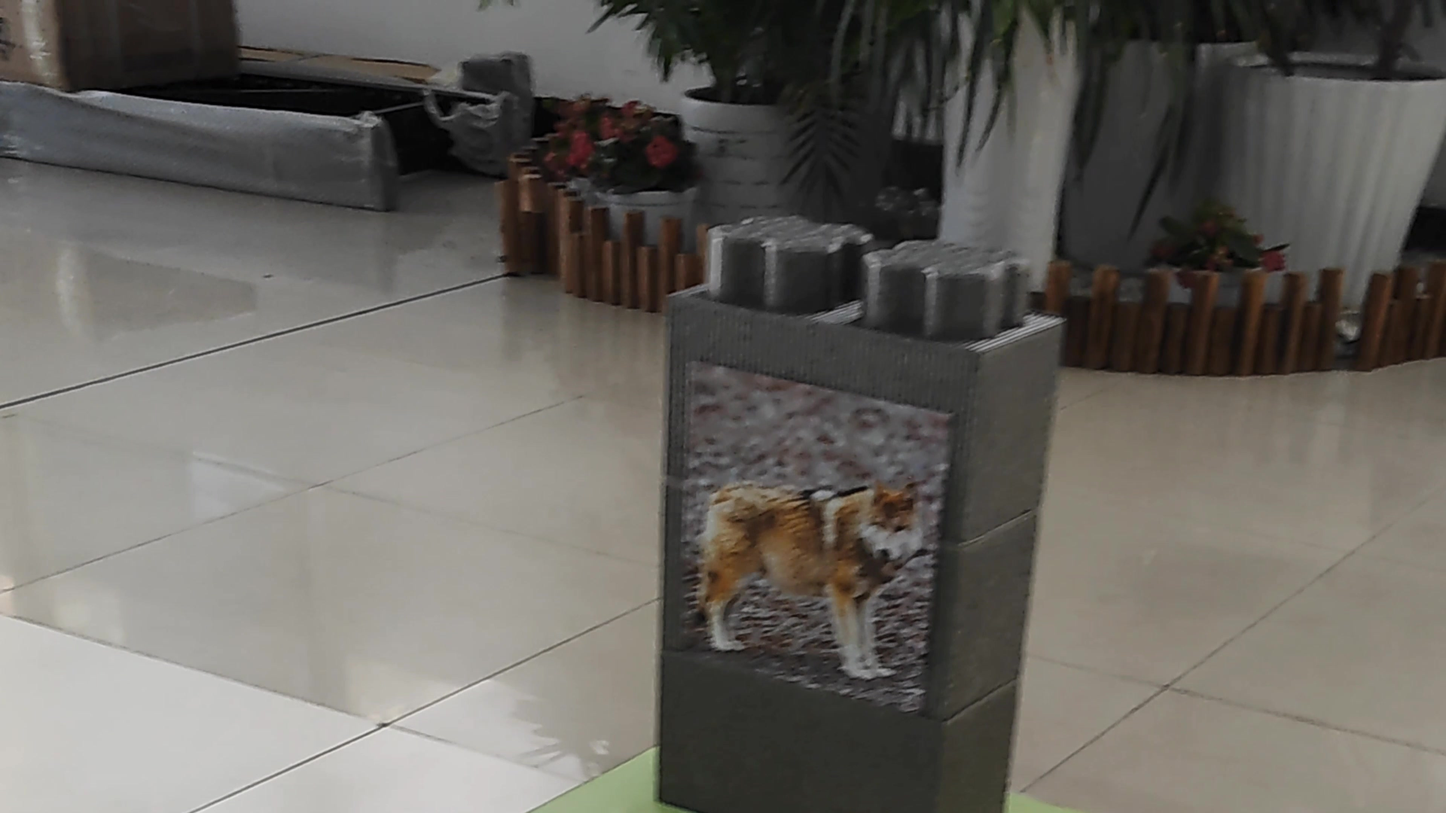wolf: (685, 422, 945, 675)
